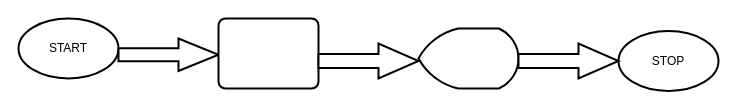
The diagram is 736 pixels wide and 109 high, and some of its shapes have lost their labels. Each missing label, with the box of its shape:
Display Result: (417, 27, 519, 89)
FUNCTION: to calculate inputs: (217, 17, 319, 89)
